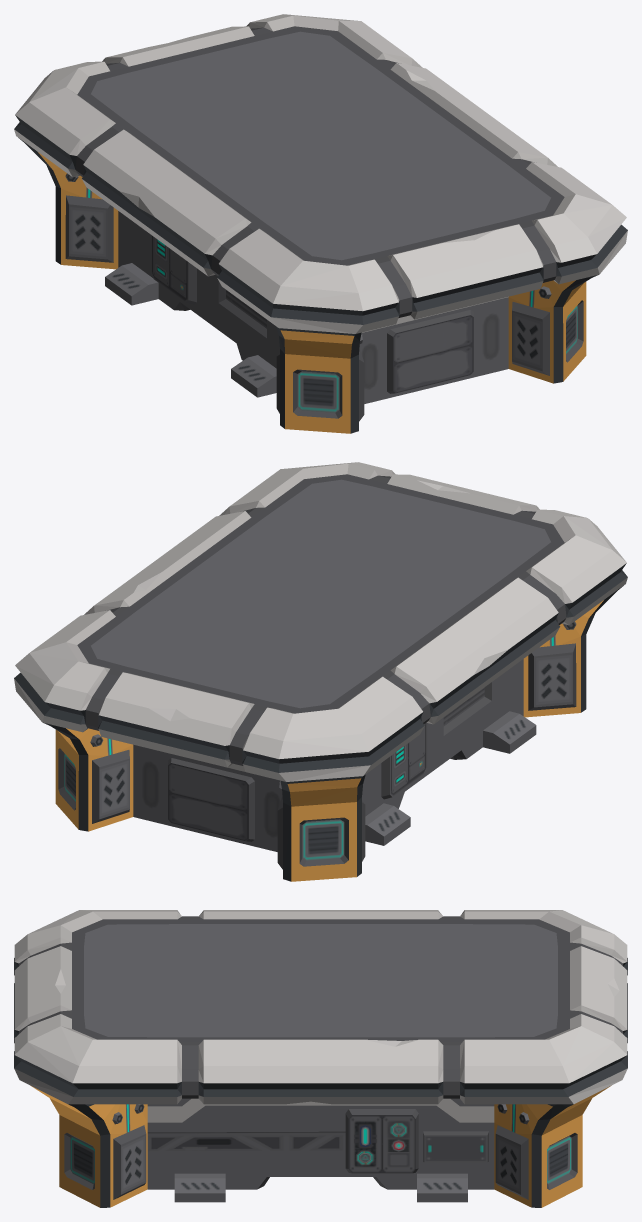
File: SM_Prop_Hologram_Table_02.fbx
3 renders of one model, top to bottom at view 1: azimuth 30°, elevation 25°; view 2: azimuth 150°, elevation 25°; view 3: azimuth 270°, elevation 25°, orthographic. The views are drawn at different scales.
Parts seen in each view (by area): view 1: SM_Prop_Hologram_Table_02; view 2: SM_Prop_Hologram_Table_02; view 3: SM_Prop_Hologram_Table_02.
Part boxes in pixels (x1,y1,x2,y2): SM_Prop_Hologram_Table_02: (14, 14, 627, 433); SM_Prop_Hologram_Table_02: (14, 462, 627, 881); SM_Prop_Hologram_Table_02: (14, 910, 627, 1207).
Size of the model in its own units: 209 by 93.78 by 323.
